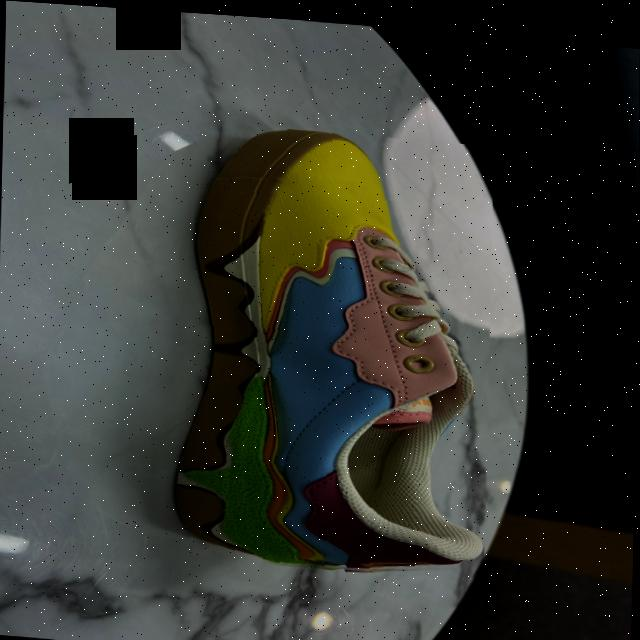shoe: (164, 116, 495, 578)
